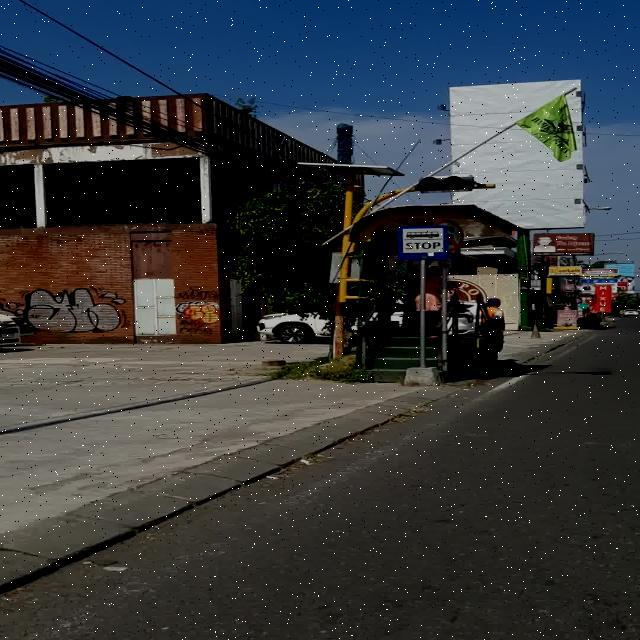Pemberhentian Bus: (397, 225, 448, 260)
